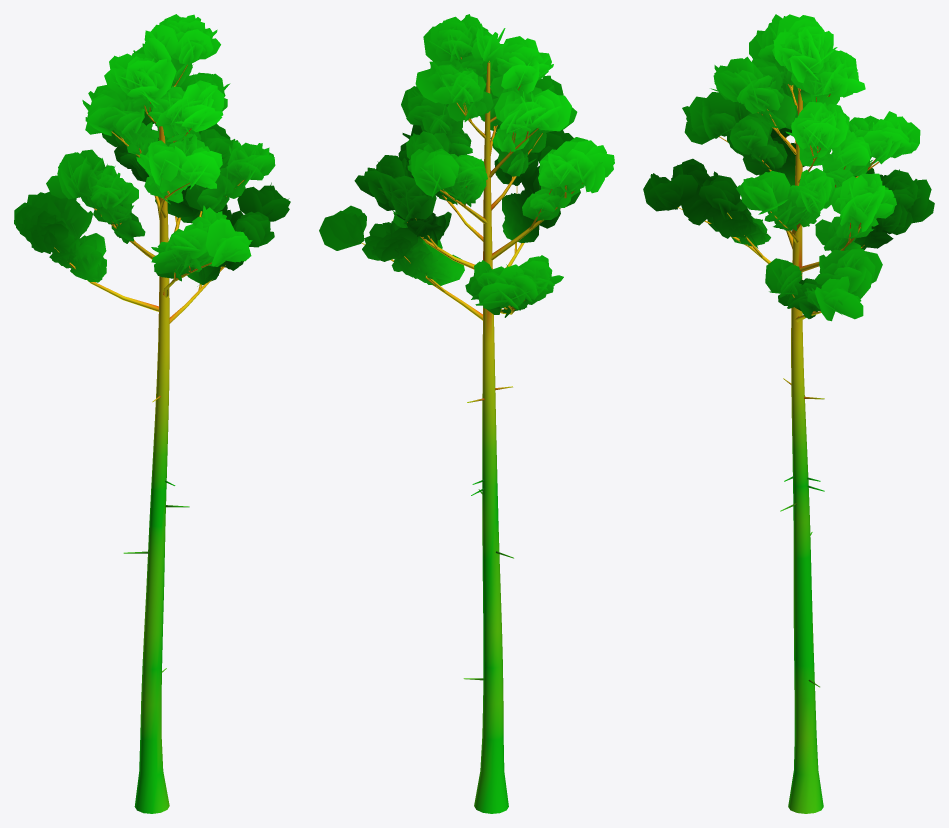
Rendered from tree_pine_a.glb.
The picture shows the model from 3 angles, left to right: view 1: azimuth 30°, elevation 25°; view 2: azimuth 150°, elevation 25°; view 3: azimuth 270°, elevation 25°; orthographic projection. The views are drawn at different scales.
Visible parts, largest first — view 1: tree_pine_a.1, tree_pine_a.0; view 2: tree_pine_a.1, tree_pine_a.0; view 3: tree_pine_a.1, tree_pine_a.0.
Boxes of the visible parts, x1,y1,x2,y2 form: tree_pine_a.1: (14,14,290,286); tree_pine_a.0: (54,64,244,813); tree_pine_a.1: (319,14,614,317); tree_pine_a.0: (361,57,582,813); tree_pine_a.1: (643,14,934,321); tree_pine_a.0: (677,84,879,813).
Size of the model in its own units: 7.16 by 20.61 by 6.84.
